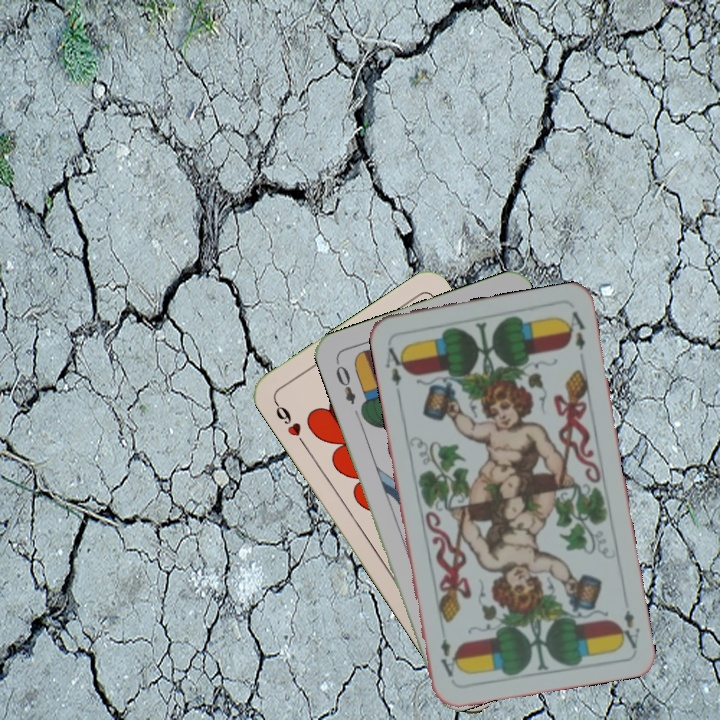EA: (381, 344, 410, 398), (614, 606, 642, 651)
EO: (331, 357, 358, 407)
H9: (270, 397, 309, 449)
